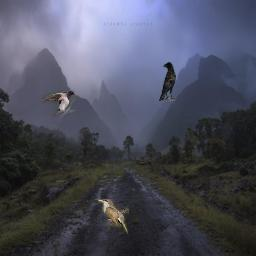Crow: (159, 62, 176, 102)
Cuckoo: (98, 199, 129, 234)
Swallow: (42, 90, 75, 119)
